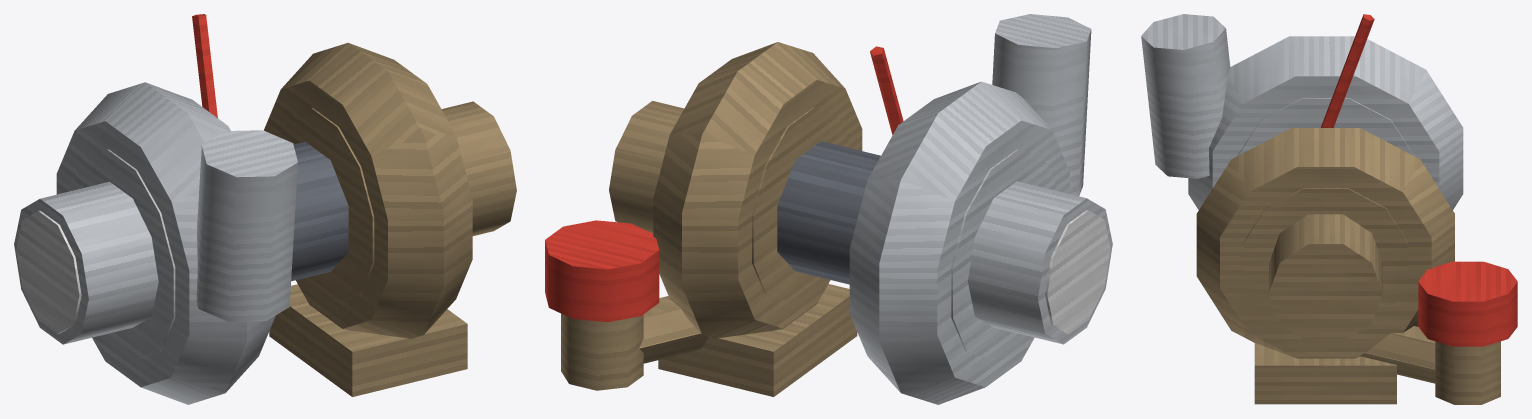
The model's file is turbo_n4.glb.
3 renders of one model, left to right at view 1: azimuth 30°, elevation 25°; view 2: azimuth 150°, elevation 25°; view 3: azimuth 270°, elevation 25°, orthographic. The views are drawn at different scales.
Parts seen in each view (by area): view 1: turbo_n4; view 2: turbo_n4; view 3: turbo_n4.
Boxes of the visible parts, left/top/right/bottom form: turbo_n4: left=14, top=14, right=516, bottom=404; turbo_n4: left=545, top=14, right=1112, bottom=404; turbo_n4: left=1141, top=14, right=1517, bottom=404.
Size of the model in its own units: 0.4037 by 0.3119 by 0.3496.
2 materials, 2 textured.
